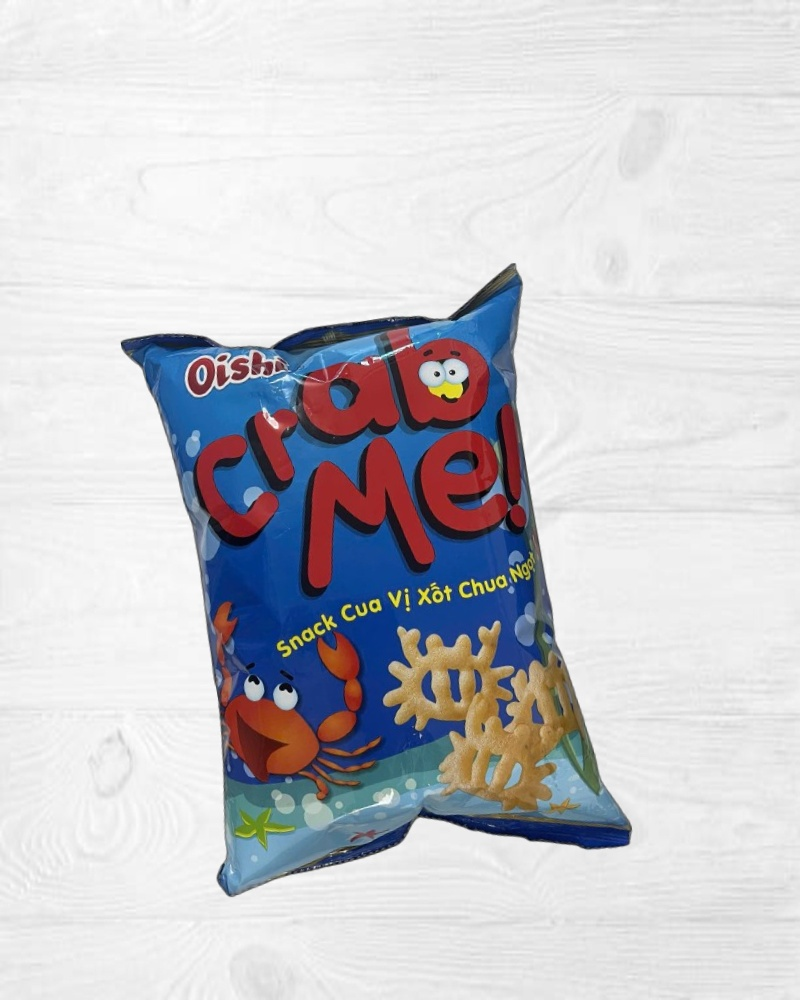Snack chay: (120, 261, 635, 919)
